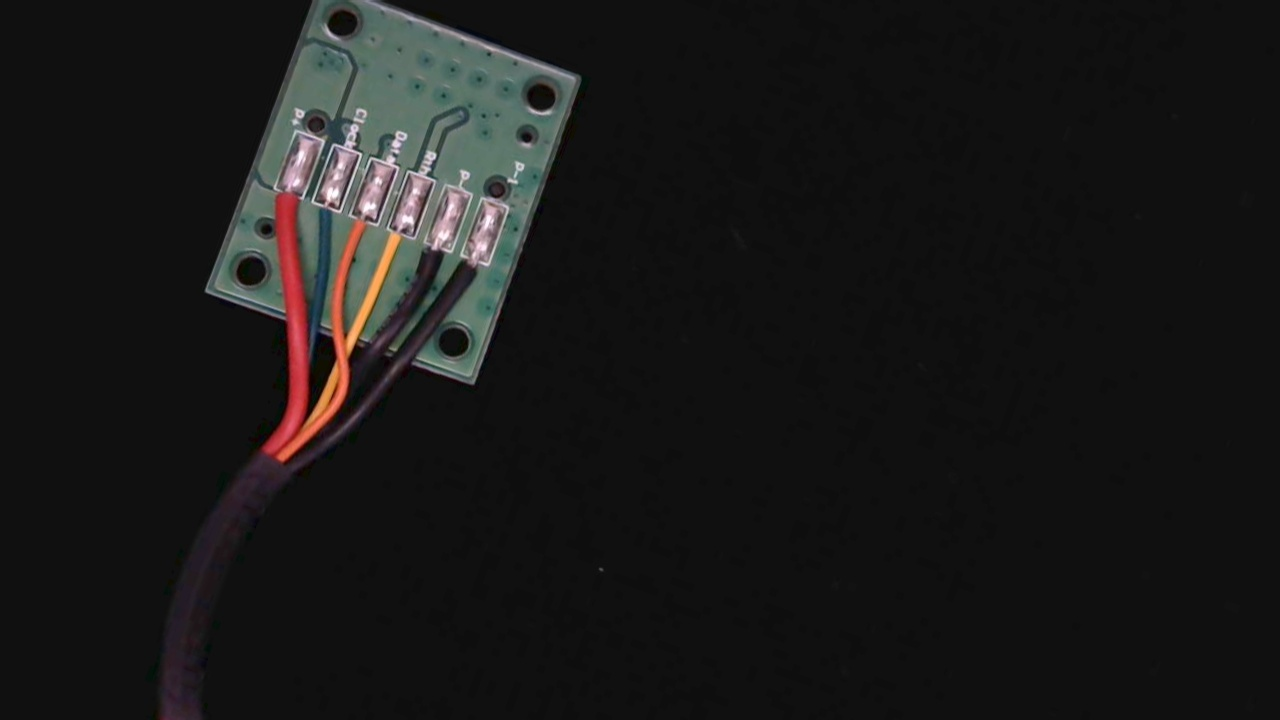Black: (404, 219, 461, 299)
Black1: (442, 233, 496, 307)
Green: (295, 178, 351, 256)
Orange: (330, 193, 385, 271)
Red: (254, 164, 311, 241)
Yellow: (366, 205, 423, 286)
